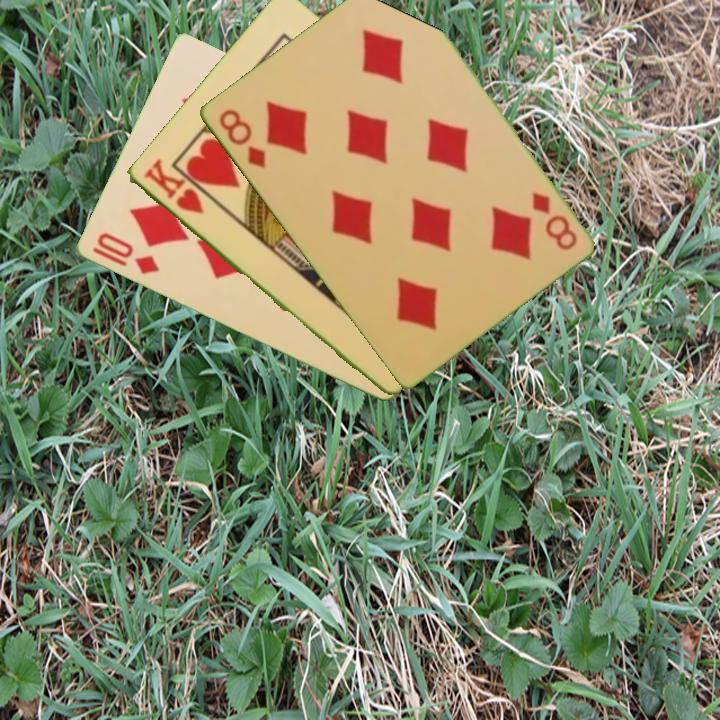10d: (92, 229, 162, 278)
8d: (214, 105, 268, 171), (527, 188, 580, 254)
Kh: (139, 155, 207, 218)
